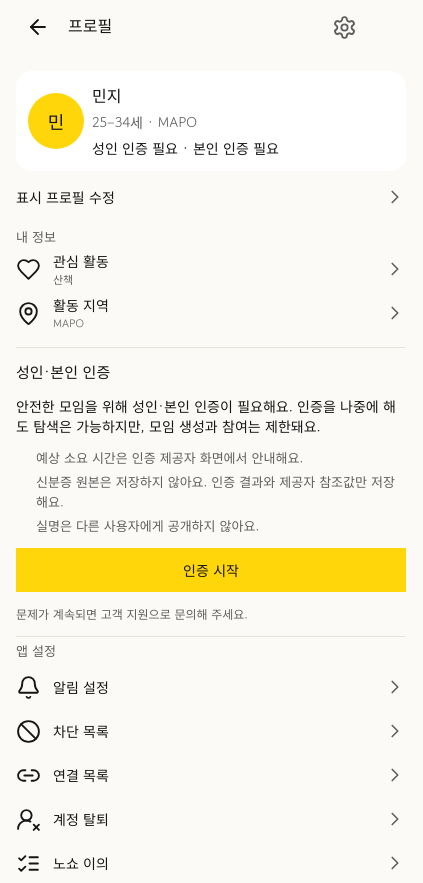
it: ProfilePage › rejects an unsafe verification provider URL without rendering a navigation control
The width and height of the screenshot is (423, 883).
expect the heading "민지" is shown: met, box [92,83,122,107]
Step 1. Click the button "인증 시작" → (211, 570), box [16,548,406,592]
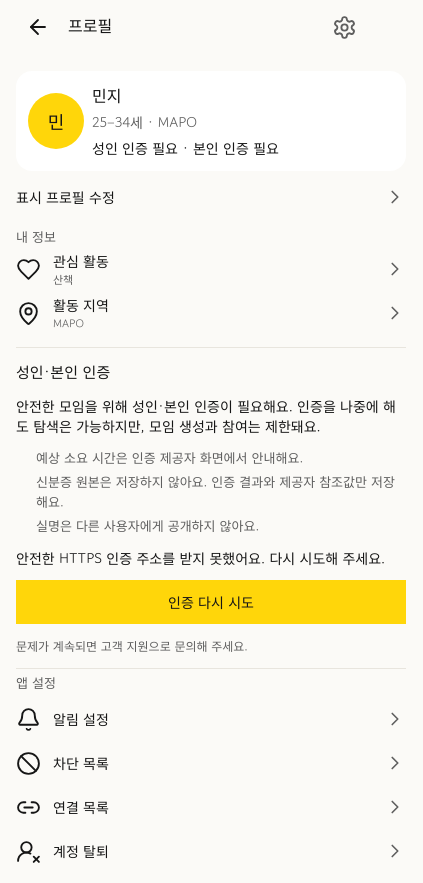
expect the message shows "안전한 HTTPS 인증 주소": met, box [16,548,385,568]
